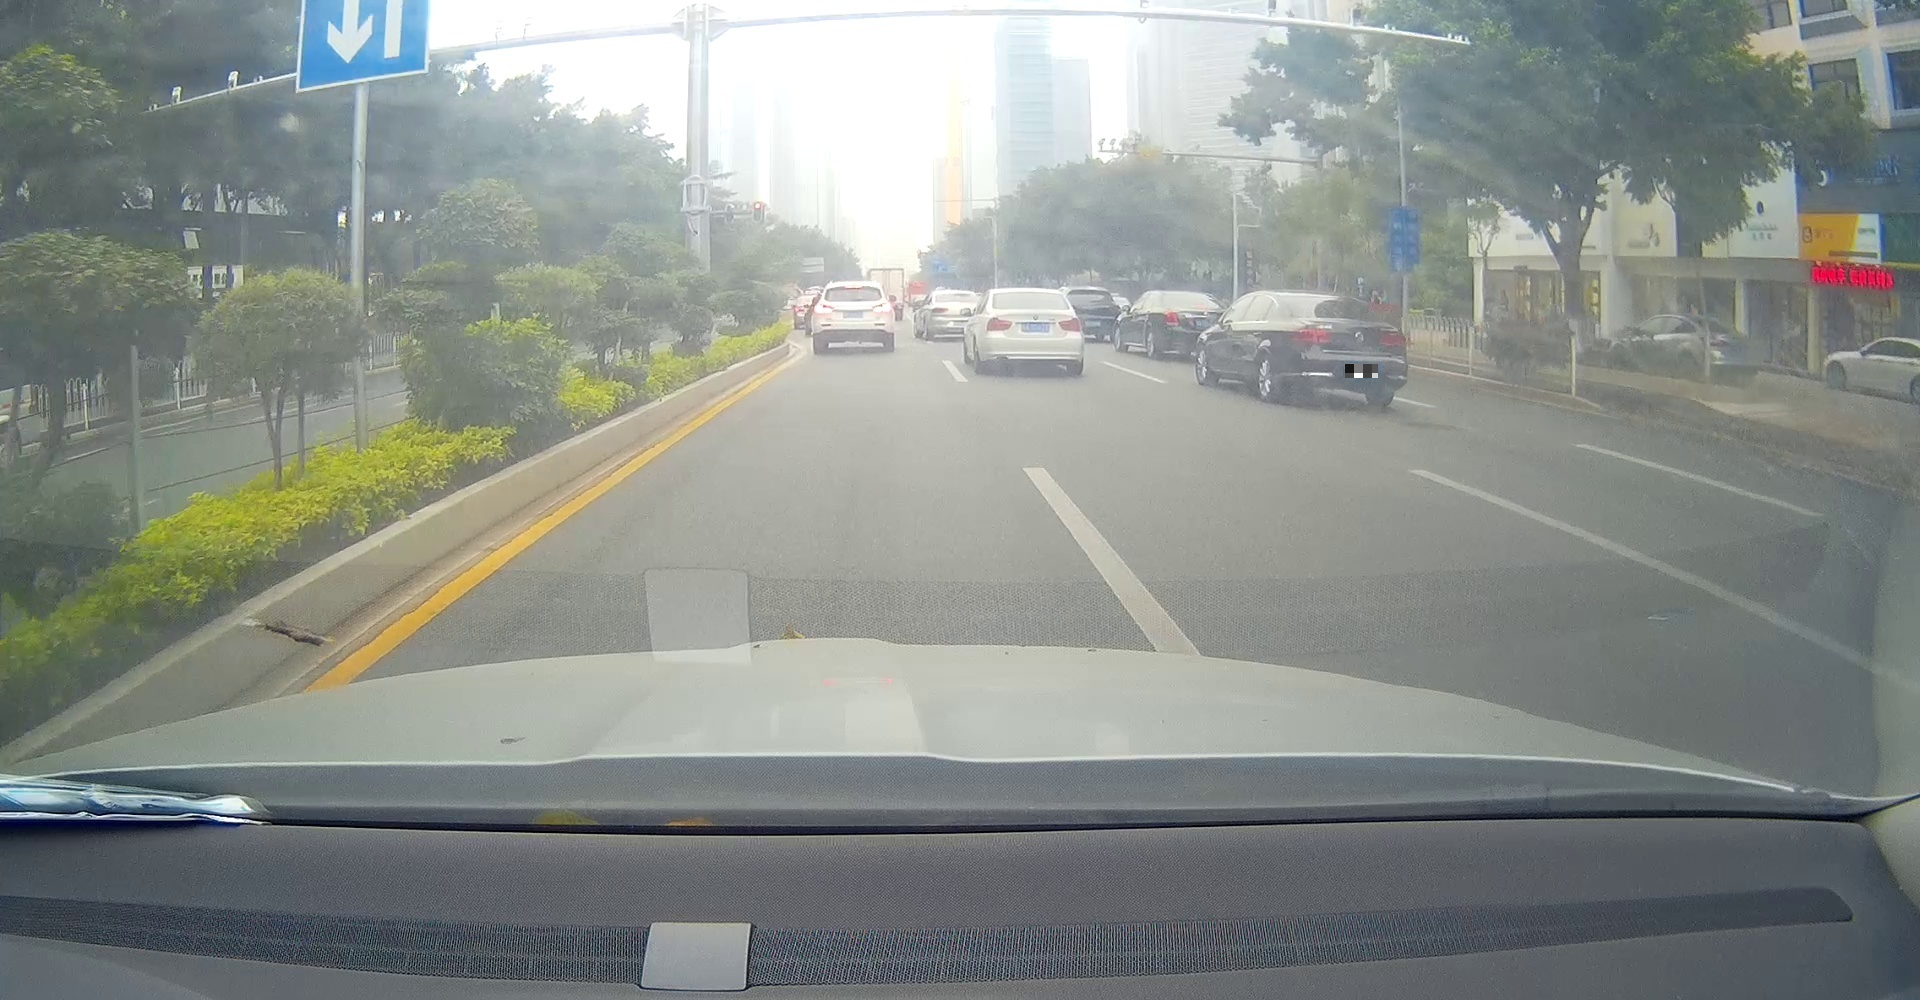L_light: (1293, 327, 1333, 345), (985, 317, 1012, 332), (814, 303, 833, 313)
R_light: (1378, 329, 1407, 345), (1058, 317, 1082, 332), (872, 302, 891, 312)
T_light: (1316, 297, 1332, 301), (844, 286, 861, 288), (1022, 292, 1035, 294)
day-brake: (811, 280, 894, 353)
day-no: (1281, 289, 1410, 407), (982, 288, 1084, 376)
plate_1: (1345, 364, 1378, 378)
